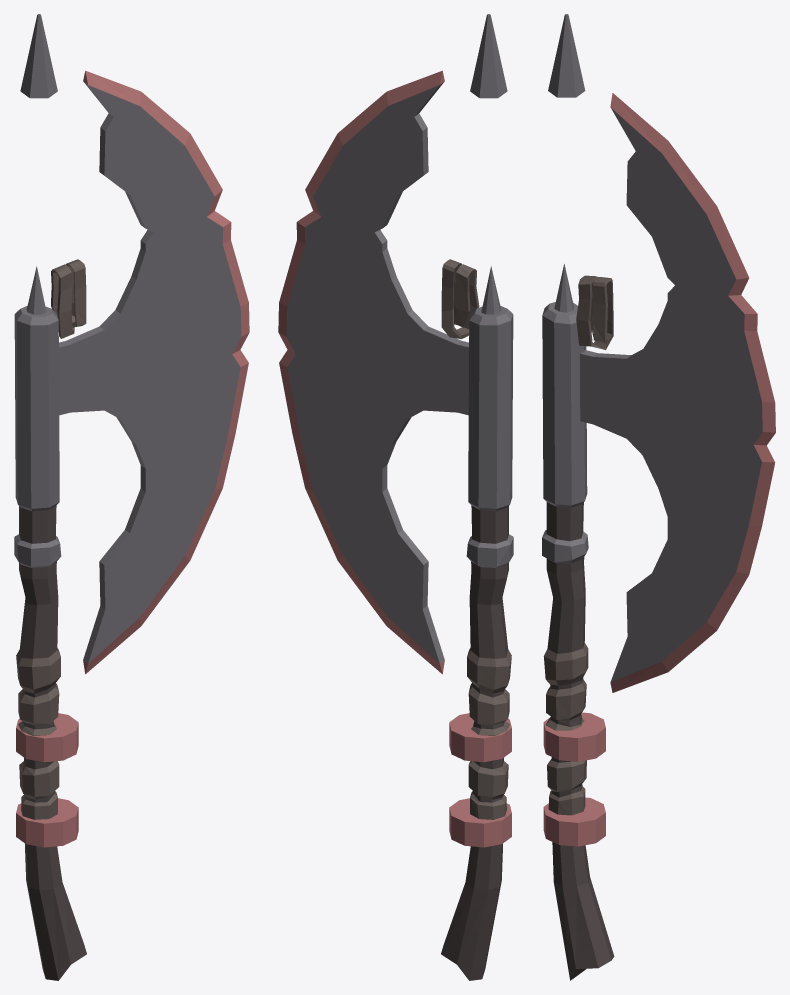
The model's file is hacha_verdugo.glb.
3 views of the same model, side by side, from view 1: azimuth 30°, elevation 25°; view 2: azimuth 150°, elevation 25°; view 3: azimuth 330°, elevation 25° (orthographic).
Parts seen in each view (by area): view 1: hacha_verdugo; view 2: hacha_verdugo; view 3: hacha_verdugo.
Part boxes in pixels (box(x1,y1,x2,y2)): hacha_verdugo: box(14, 14, 249, 980); hacha_verdugo: box(278, 14, 513, 980); hacha_verdugo: box(542, 14, 775, 980).
Bounding box in the file's own units: 1.43 × 5.67 × 0.34.
